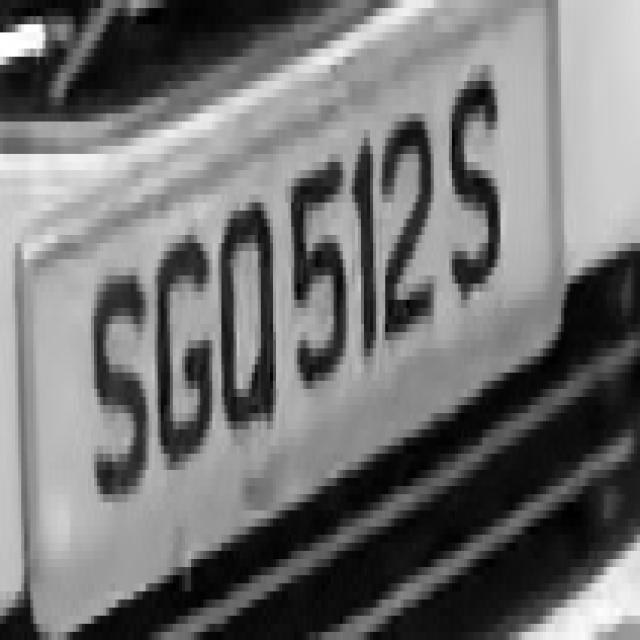1: (349, 130, 385, 380)
2: (376, 89, 446, 365)
5: (288, 146, 349, 413)
G: (152, 219, 218, 478)
Q: (212, 186, 282, 454)
S: (79, 276, 155, 526), (442, 49, 512, 316)
